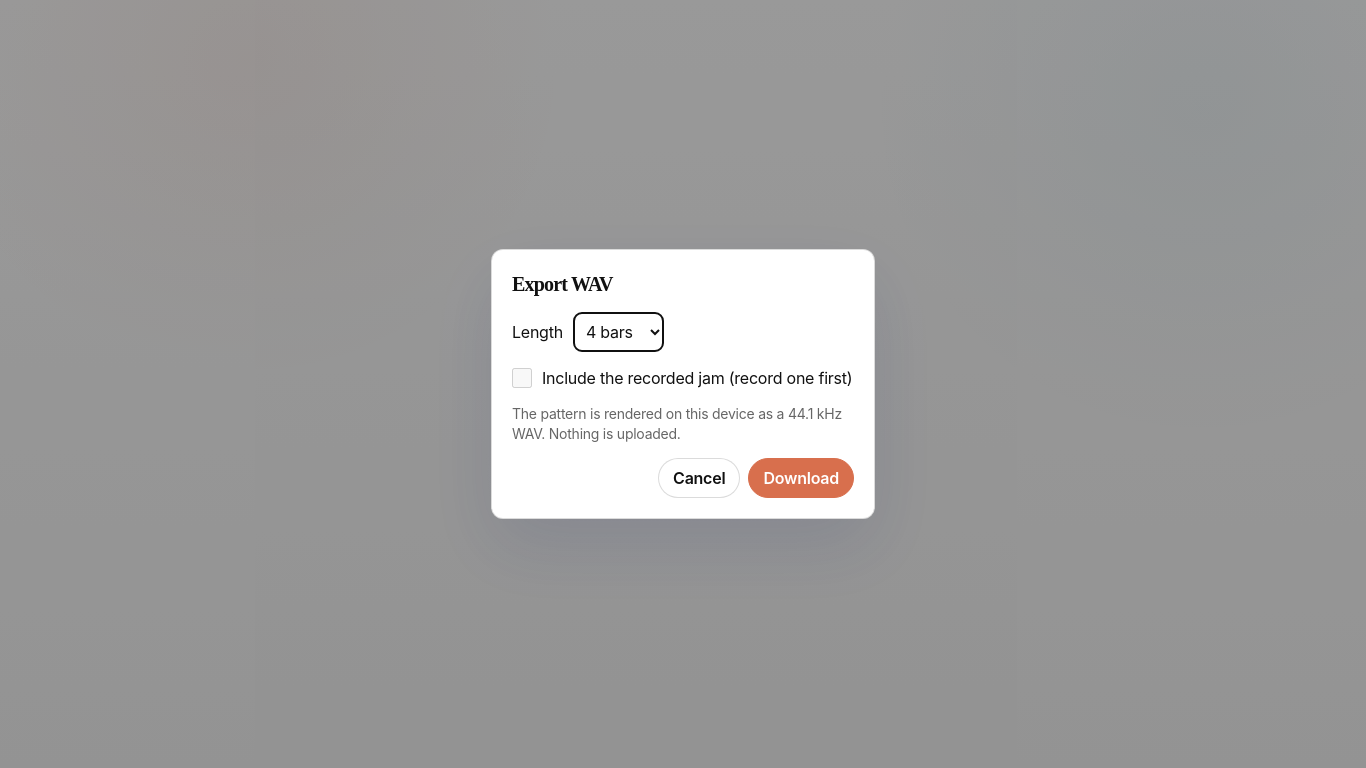
Test: ExportPanel › shows an error and stays open if rendering fails
Click the button "Download".
click(801, 478)  # box left=748, top=458, right=854, bottom=498
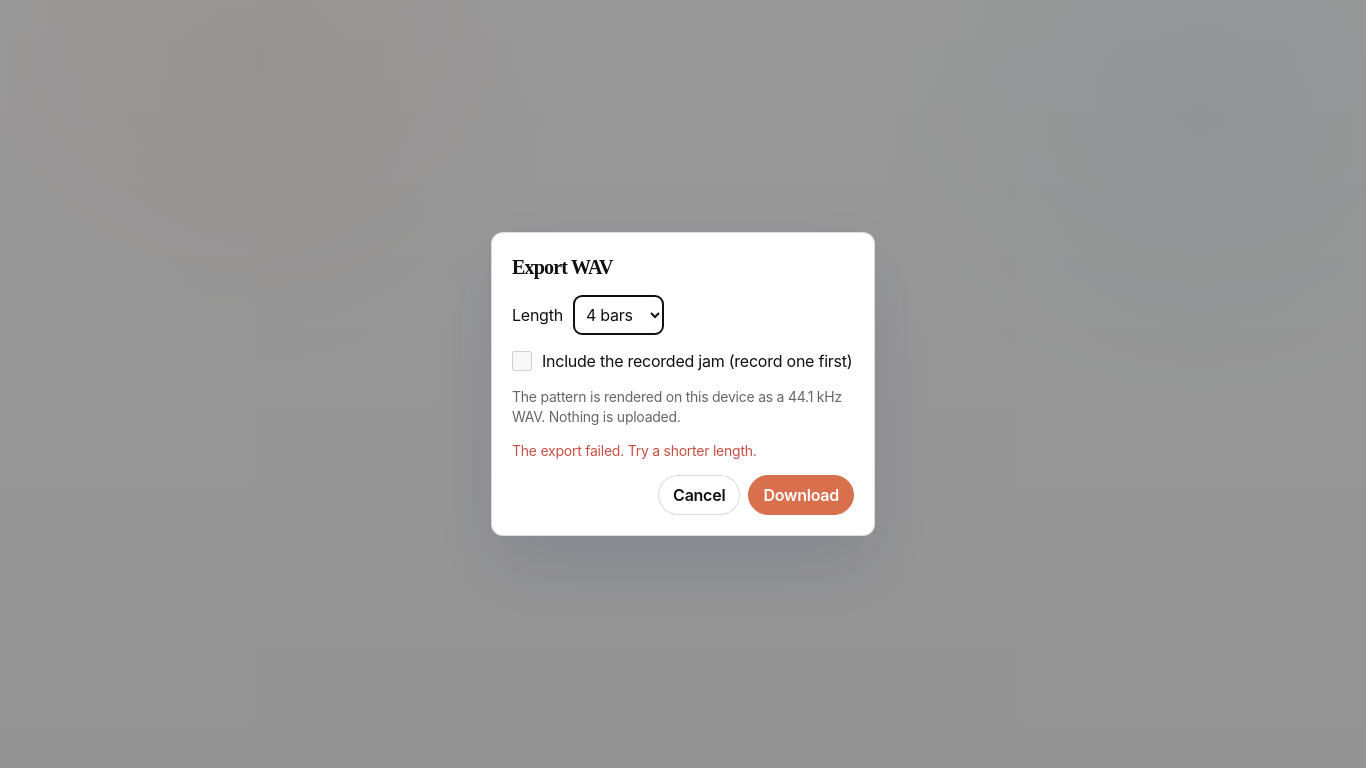
Check: the message "The export failed. Try a shorter length." is shown, box left=512, top=442, right=757, bottom=459
